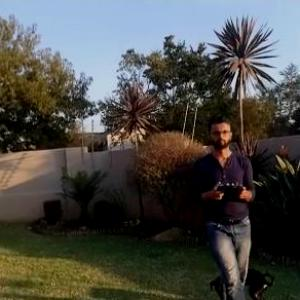follow: (190, 109, 263, 299)
